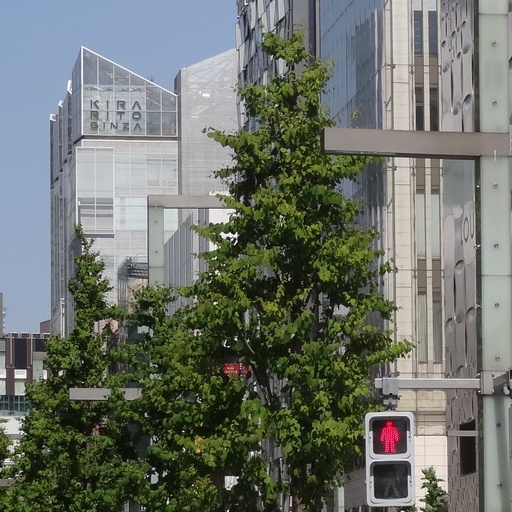Pedestrian_Signal_Red: (363, 397, 417, 501)
